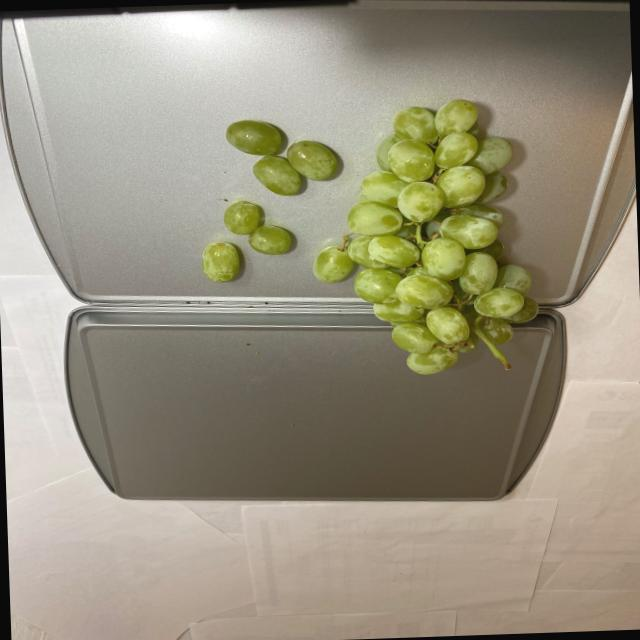grapes: (196, 98, 537, 382)
